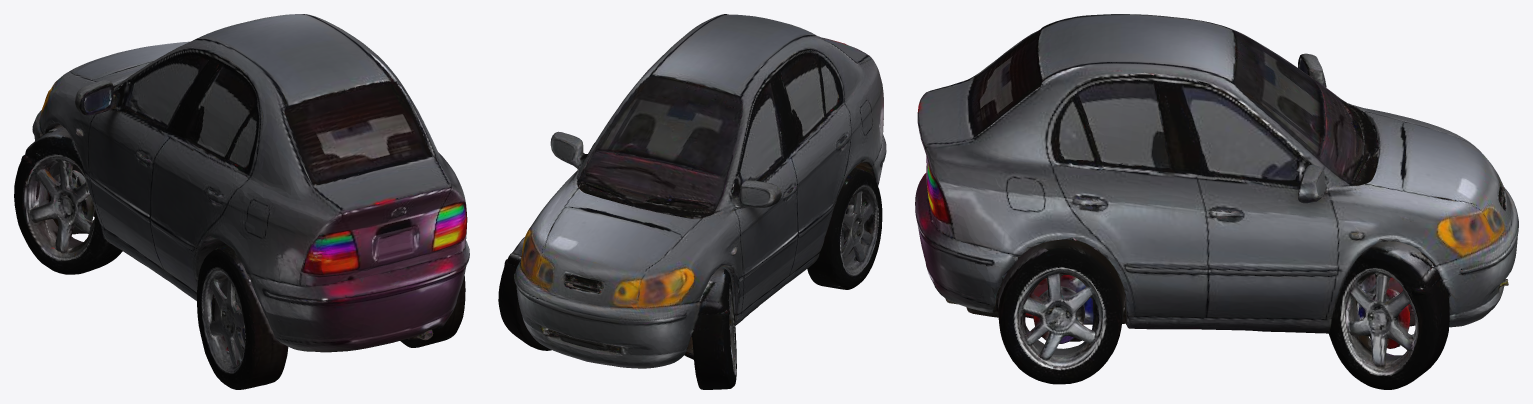
The model's file is car_sedan.glb.
3 views of the same model, side by side, from view 1: azimuth 30°, elevation 25°; view 2: azimuth 150°, elevation 25°; view 3: azimuth 270°, elevation 25° (orthographic). The views are drawn at different scales.
Visible parts, largest first — view 1: world; view 2: world; view 3: world.
Part boxes in pixels (x1,y1,x2,y2): world: (14,14,469,389); world: (498,14,886,389); world: (915,14,1518,389).
Bounding box in the file's own units: 1.04 × 1.09 × 1.99.
Materials: 1 (1 with a texture image).
